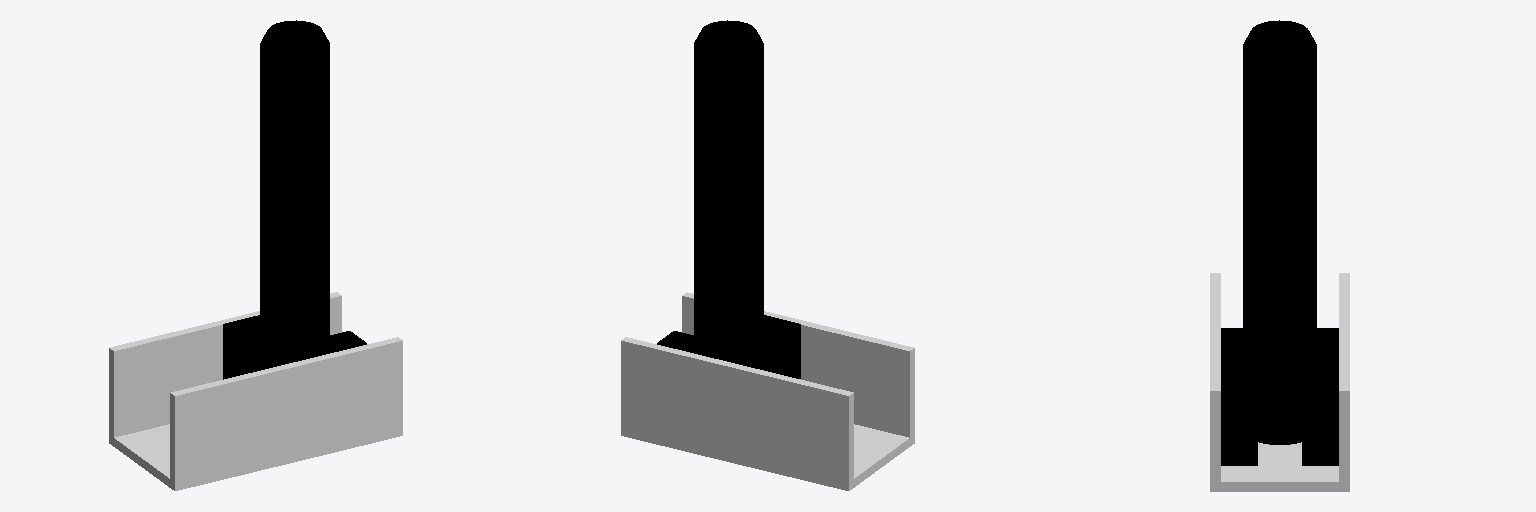
URDF robot description (lever_basic):
<?xml version="1.0"?>
<robot name="lever_basic">
  <gazebo reference="world">
  </gazebo>
  <gazebo reference="base_link_casing">
    <kp>1000000.0</kp>
    <kd>100.0</kd>
    <mu1>30.0</mu1>
    <mu2>30.0</mu2>
    <maxVel>1.0</maxVel>
    <minDepth>0.001</minDepth>
    <material>Gazebo/DarkGrey</material>
  </gazebo>
  <gazebo reference="base_link_squares">
    <kp>1000000.0</kp>
    <kd>100.0</kd>
    <mu1>30.0</mu1>
    <mu2>30.0</mu2>
    <maxVel>1.0</maxVel>
    <minDepth>0.001</minDepth>
    <material>Gazebo/DarkGrey</material>
  </gazebo>
  <gazebo reference="lever_link">
    <kp>1000000.0</kp>
    <kd>100.0</kd>
    <mu1>30.0</mu1>
    <mu2>30.0</mu2>
    <maxVel>1.0</maxVel>
    <minDepth>0.001</minDepth>
    <material>Gazebo/DarkGrey</material>
  </gazebo>
  <gazebo>
    <plugin name="gazebo_ros_control" filename="libgazebo_ros_control.so">
      <robotNamespace>/lever_basic</robotNamespace>
      <robotParam>/lever_basic/robot_description</robotParam>
    </plugin>
  </gazebo>
  <material name="light_gray">
    <color rgba="0.9 0.9 0.9 1"/>
  </material>
  <material name="black">
    <color rgba="0 0 0 1"/>
  </material>
  <material name="white">
    <color rgba="1 1 1 1"/>
  </material> 
  <link name="world">
  </link>
  <link name="base_link_casing">
    <visual>
        <geometry>
          <mesh filename="package://open_manipulator_rl_environments/meshes/base-casing.stl" scale="0.059 0.059 0.059"/>
        </geometry>
        <material name="light_gray"/>
    </visual>
    <collision>
      <geometry>
          <mesh filename="package://open_manipulator_rl_environments/meshes/base-casing.stl" scale="0.059 0.059 0.059"/>
      </geometry>
    </collision>
  </link>
  <link name="base_link_squares">
    <contact>
      <lateral_friction value="1.0"/>
      <inertia_scaling value="3.0"/>
    </contact>
    <visual>
        <geometry>
          <mesh filename="package://open_manipulator_rl_environments/meshes/base-squares-only.stl" scale="0.059 0.059 0.059"/>
        </geometry>
        <material name="black"/>
    </visual>
    <collision>
      <geometry>
          <mesh filename="package://open_manipulator_rl_environments/meshes/base-squares-only.stl" scale="0.059 0.059 0.059"/>
      </geometry>
    </collision>
  </link>
  <link name="lever_link">
    <contact>
      <lateral_friction value="1.0"/>
      <rolling_friction value="0.0"/>
      <stiffness value="30000"/>
      <damping value="1000"/>
    </contact>
    <visual>
        <geometry>
          <mesh filename="package://open_manipulator_rl_environments/meshes/lever-arm-colored.stl" scale="0.059 0.059 0.059"/>
        </geometry>
        <material name="black"/>
    </visual>
    <collision>
      <geometry>
          <mesh filename="package://open_manipulator_rl_environments/meshes/lever-arm-colored.stl" scale="0.059 0.059 0.059"/>
      </geometry>
    </collision>
    <contact_coefficients>
      <mu1 value="5.5"/>
      <mu2 value="5.5"/>
      <kp value="0.5"/>
      <kd value="0.5"/>
    </contact_coefficients>
  </link>
  <!-- Can possibly add an offset to this to account for that the origin of the rest is not the bottom of lever-->
  <joint name="world_fixed" type="fixed">
    <origin rpy="0 0 0" xyz="0 0 0.015"/>
    <parent link="world"/>
    <child link="base_link_casing"/>
  </joint>
  <joint name="casing_to_squares" type="fixed">
    <parent link="base_link_casing"/>
  <child link="base_link_squares"/>
  </joint>
  <joint name="squares_to_lever" type="revolute">
    <axis xyz="0 1 0"/>
    <limit effort="1000.0" lower="-1.57" upper="1.57" velocity="0.5"/>
    <parent link="base_link_squares"/>
    <child link="lever_link"/>
  </joint>
  <transmission name="tran1">
    <type>transmission_interface/SimpleTransmission</type>
    <joint name="squares_to_lever">
      <hardwareInterface>hardware_interface/EffortJointInterface</hardwareInterface>
    </joint>
    <actuator name="motor1">
      <hardwareInterface>hardware_interface/EffortJointInterface</hardwareInterface>
      <mechanicalReduction>1</mechanicalReduction>
    </actuator>
  </transmission>
</robot>

--- Facts derived from the render (not from the file) ---
The picture shows the robot from 3 angles, left to right: view 1: azimuth 30°, elevation 25°; view 2: azimuth 150°, elevation 25°; view 3: azimuth 270°, elevation 25°; orthographic projection.
Model lever_basic with 4 links and 3 joints (1 revolute, 2 fixed), rooted at world, posed every joint at zero.
Links seen in each view (by area): view 1: base_link_casing, lever_link, base_link_squares; view 2: base_link_casing, lever_link, base_link_squares; view 3: lever_link, base_link_squares, base_link_casing.
Link boxes in pixels (x1,y1,x2,y2): base_link_casing: [109, 292, 402, 490]; lever_link: [260, 20, 329, 370]; base_link_squares: [223, 315, 366, 379]; base_link_casing: [621, 292, 914, 490]; lever_link: [694, 20, 763, 369]; base_link_squares: [657, 315, 800, 378]; lever_link: [1243, 20, 1316, 444]; base_link_squares: [1221, 328, 1338, 465]; base_link_casing: [1210, 273, 1349, 491].
Bounding box of the posed robot: 0.075 × 0.0376 × 0.1249 m (x, y, z).
3 mesh visuals loaded from 3 distinct referenced files (3 binary STL).
